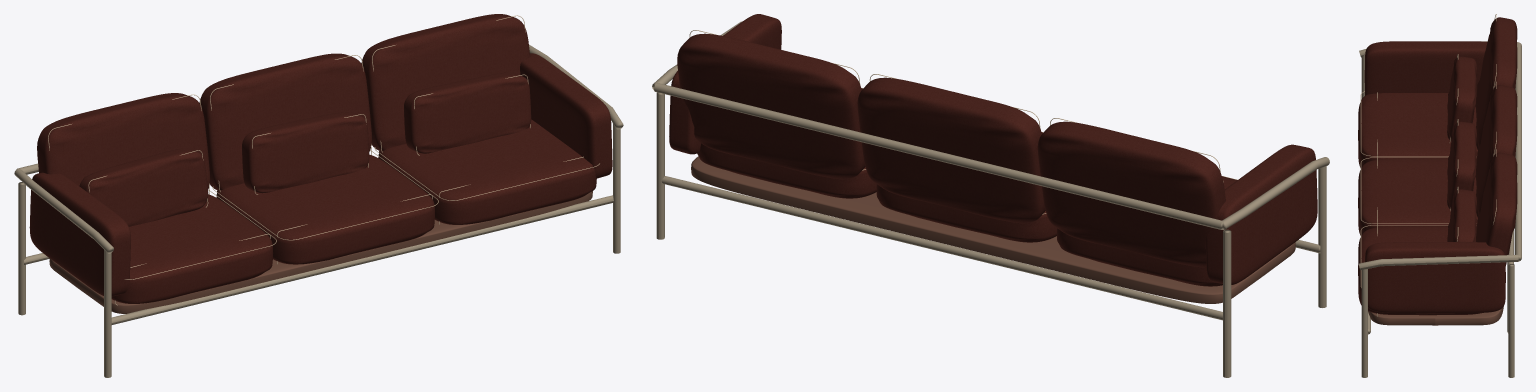
File: N07_sofa_photo_reconstruction.glb
The picture shows the model from 3 angles, left to right: view 1: azimuth 30°, elevation 25°; view 2: azimuth 150°, elevation 25°; view 3: azimuth 270°, elevation 25°; orthographic projection. The views are drawn at different scales.
Parts seen in each view (by area): view 1: Oxblood velvet cloth, Brushed warm bronze tubular structure, Dark under-seat sling, Warm beige fine contrast stitches; view 2: Oxblood velvet cloth, Brushed warm bronze tubular structure, Dark under-seat sling; view 3: Oxblood velvet cloth, Brushed warm bronze tubular structure, Dark under-seat sling, Warm beige fine contrast stitches.
Part boxes in pixels (x1,y1,x2,y2): Oxblood velvet cloth: (29,14,612,303); Brushed warm bronze tubular structure: (14,44,623,377); Dark under-seat sling: (49,191,592,313); Warm beige fine contrast stitches: (48,15,599,305); Oxblood velvet cloth: (669,14,1317,286); Brushed warm bronze tubular structure: (652,21,1329,377); Dark under-seat sling: (691,156,1295,303); Oxblood velvet cloth: (1358,17,1517,315); Brushed warm bronze tubular structure: (1359,41,1521,377); Dark under-seat sling: (1368,306,1503,325); Warm beige fine contrast stitches: (1360,14,1496,316).
Bounding box in the file's own units: 2.7 × 0.9307 × 0.859.
4 materials, 1 textured.
